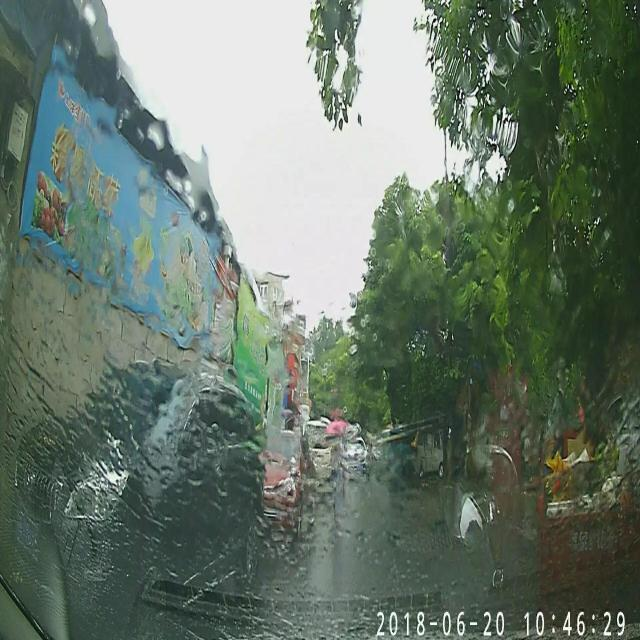car: (8, 360, 258, 635), (248, 428, 314, 533), (400, 424, 444, 482), (306, 419, 341, 477), (344, 432, 370, 479)
